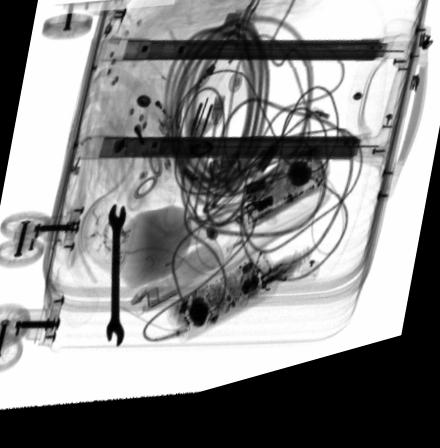Wrench: (105, 209, 126, 353)
